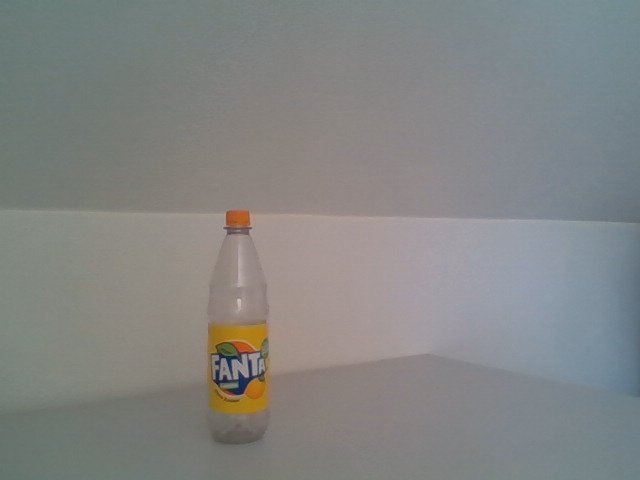bottle: (206, 209, 270, 446)
